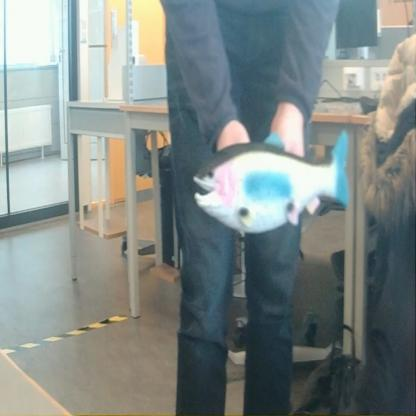rubberfish: (189, 125, 355, 239)
